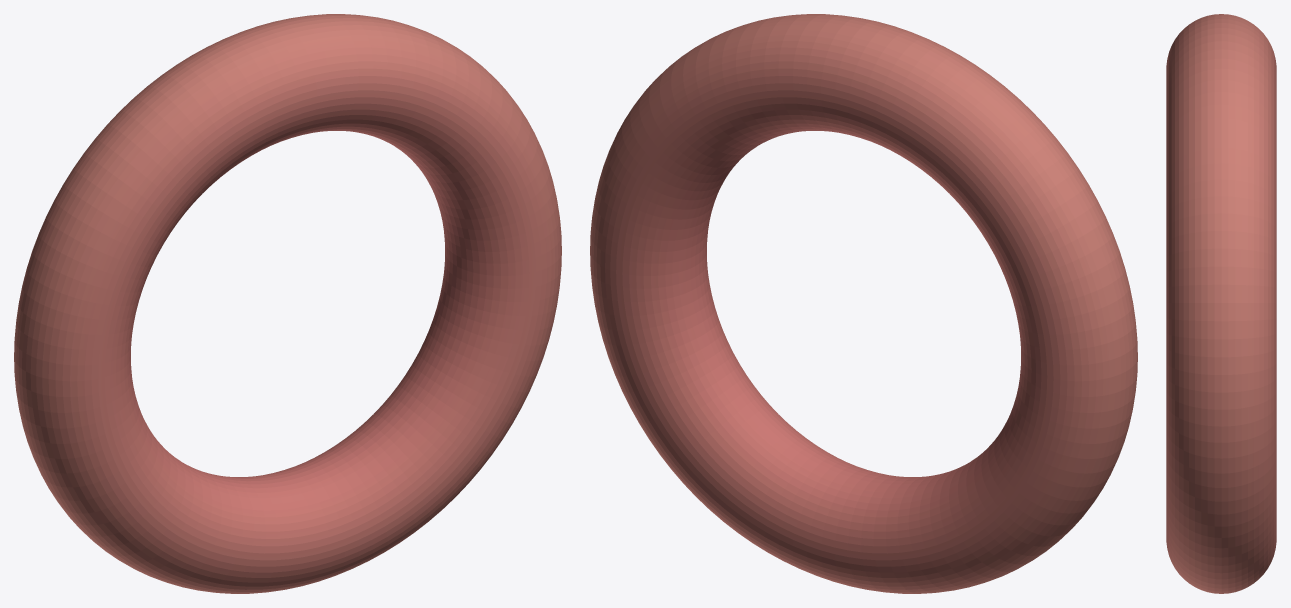
The picture shows the model from 3 angles, left to right: view 1: azimuth 30°, elevation 25°; view 2: azimuth 150°, elevation 25°; view 3: azimuth 270°, elevation 25°; orthographic projection. The views are drawn at different scales.
Visible parts, largest first — view 1: world; view 2: world; view 3: world.
Part boxes in pixels (box(x1,y1,x2,y2)): world: box(14, 14, 561, 593); world: box(590, 14, 1137, 593); world: box(1166, 14, 1276, 593).
Bounding box in the file's own units: 18.93 × 18.93 × 3.59.
